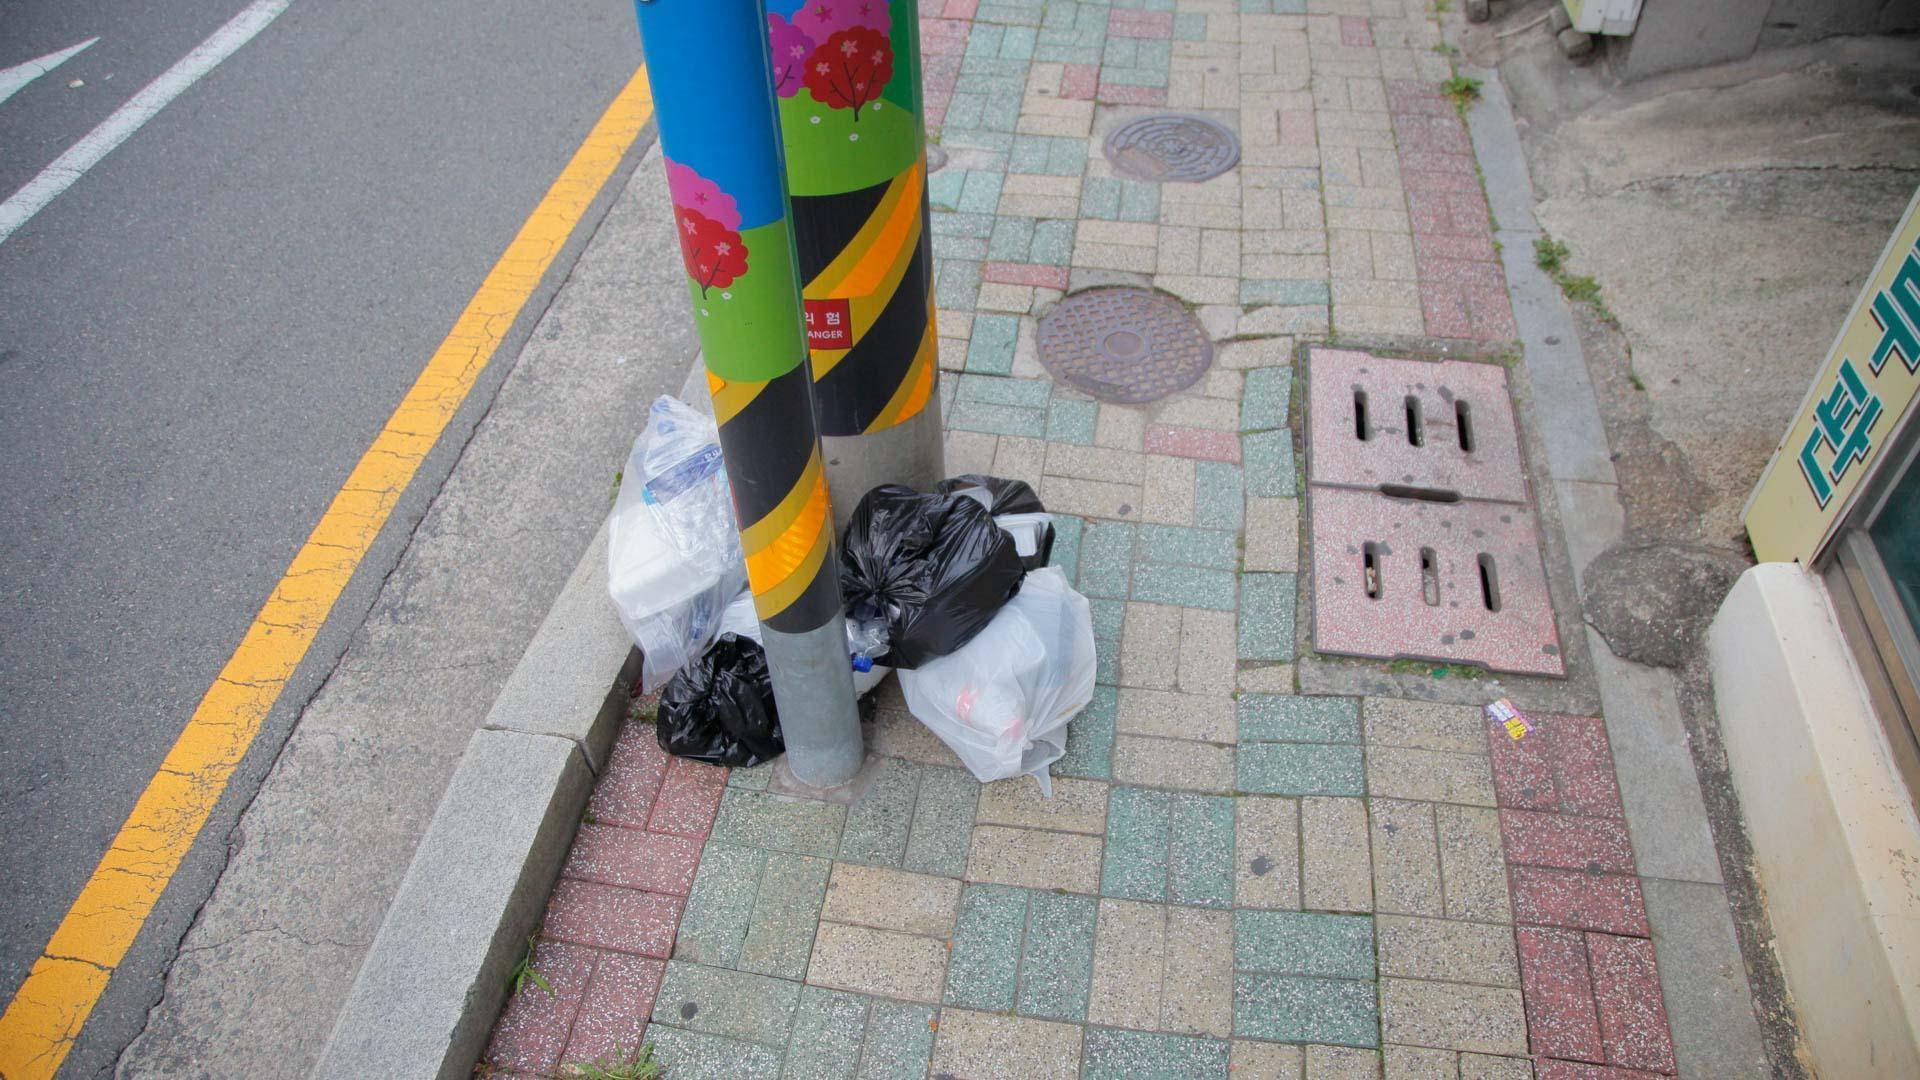black_bag: (818, 469, 1022, 667), (646, 638, 796, 775)
white_bag: (889, 564, 1118, 811), (595, 396, 785, 688)
